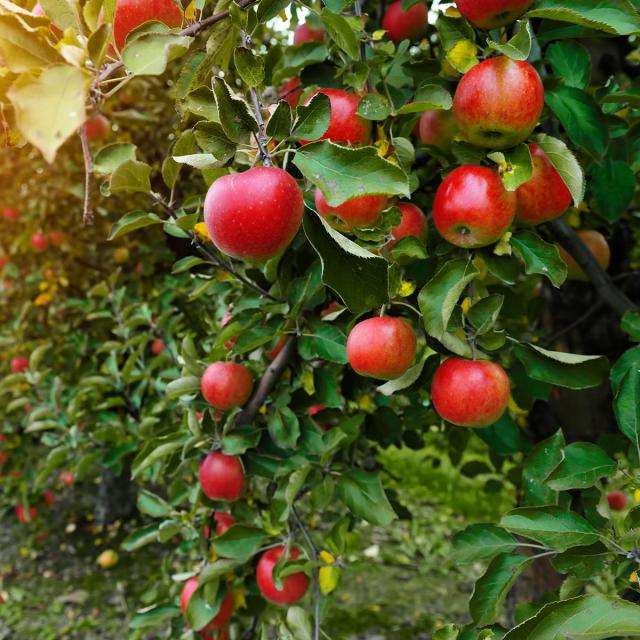100-_ripeness: (448, 57, 548, 154), (204, 166, 303, 263), (430, 164, 518, 250), (499, 143, 576, 226), (430, 354, 512, 430), (110, 0, 187, 68), (345, 315, 416, 383), (298, 88, 370, 148), (254, 546, 314, 606), (312, 177, 378, 230), (371, 201, 426, 262), (179, 577, 235, 633), (447, 0, 547, 30), (198, 356, 256, 406), (198, 452, 255, 502), (384, 0, 430, 48)
